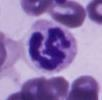N: (26, 22, 78, 72)
